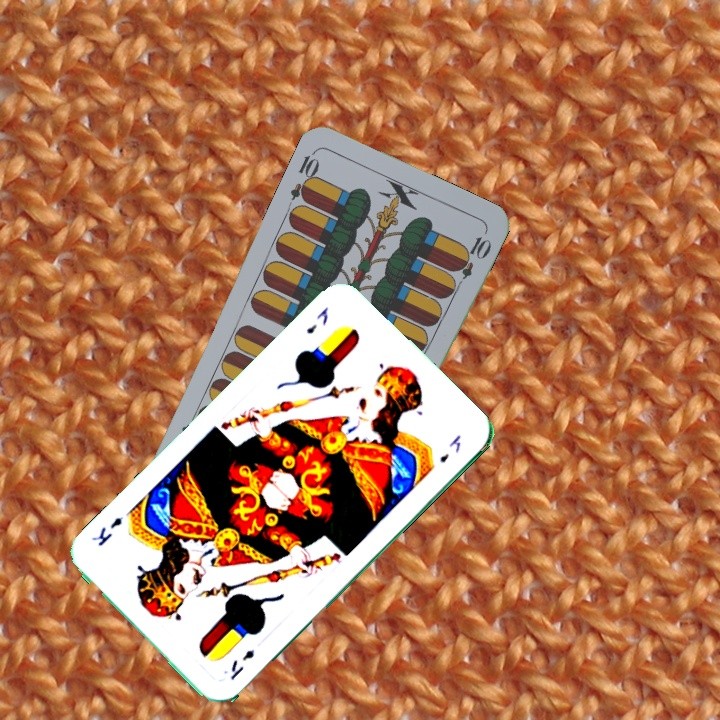E10: (286, 146, 323, 205)
EK: (226, 645, 257, 682), (302, 303, 331, 337)
